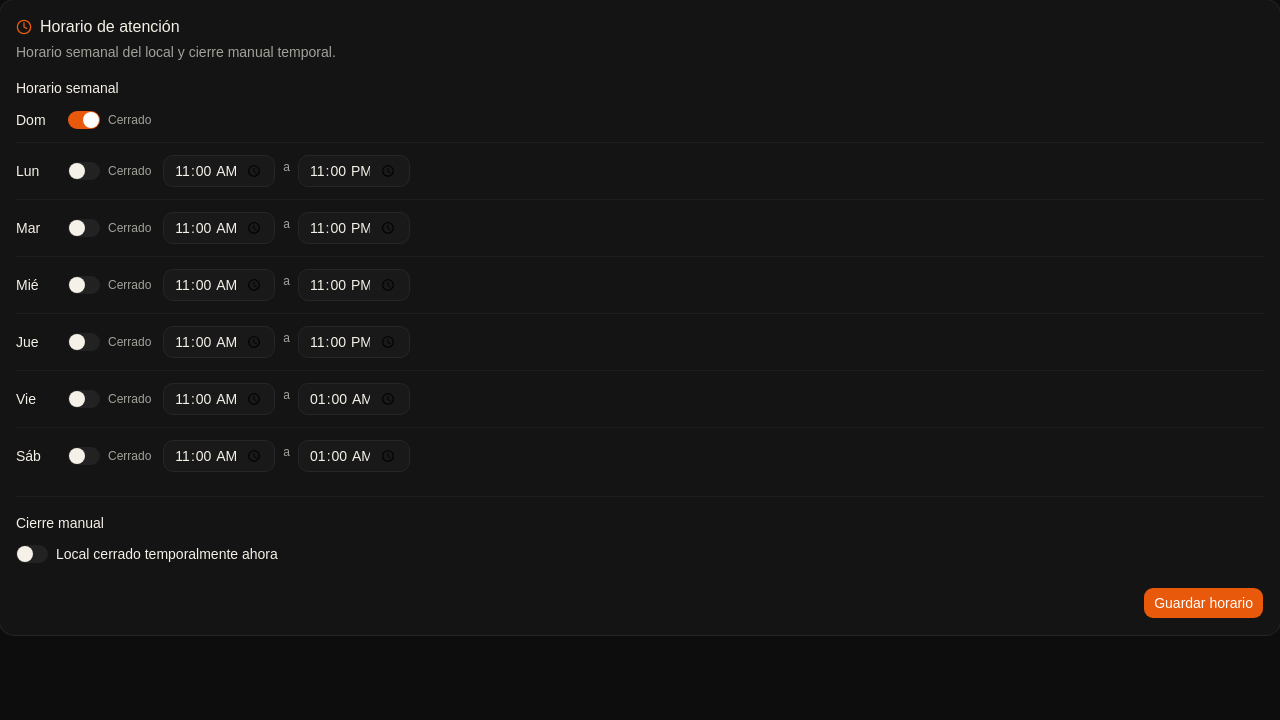
it: BusinessHoursSettingsCard › cerrar después de vaciar hora repara la hora; reabrir conserva horas válidas
Clear the time field named "Lun hora de apertura" at (219, 171), box [163,155,275,187]
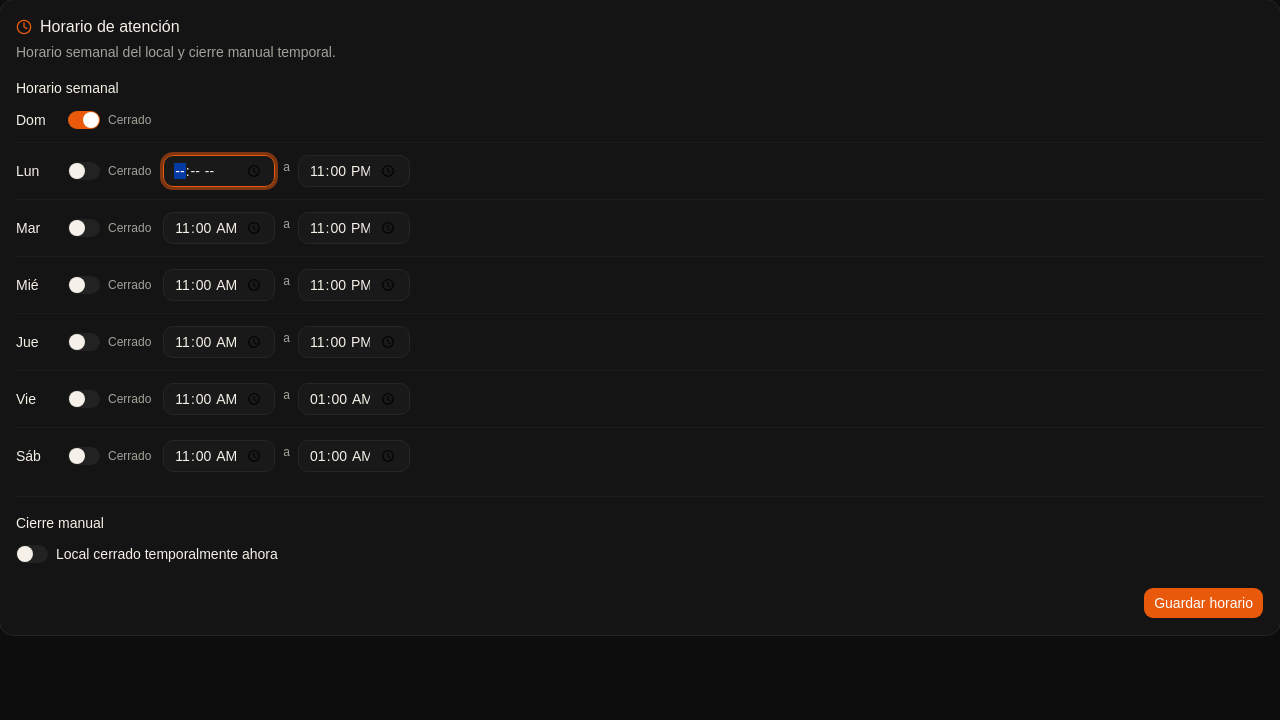
Click the switch named "Lun cerrado" at (84, 171), box [68,162,100,180]
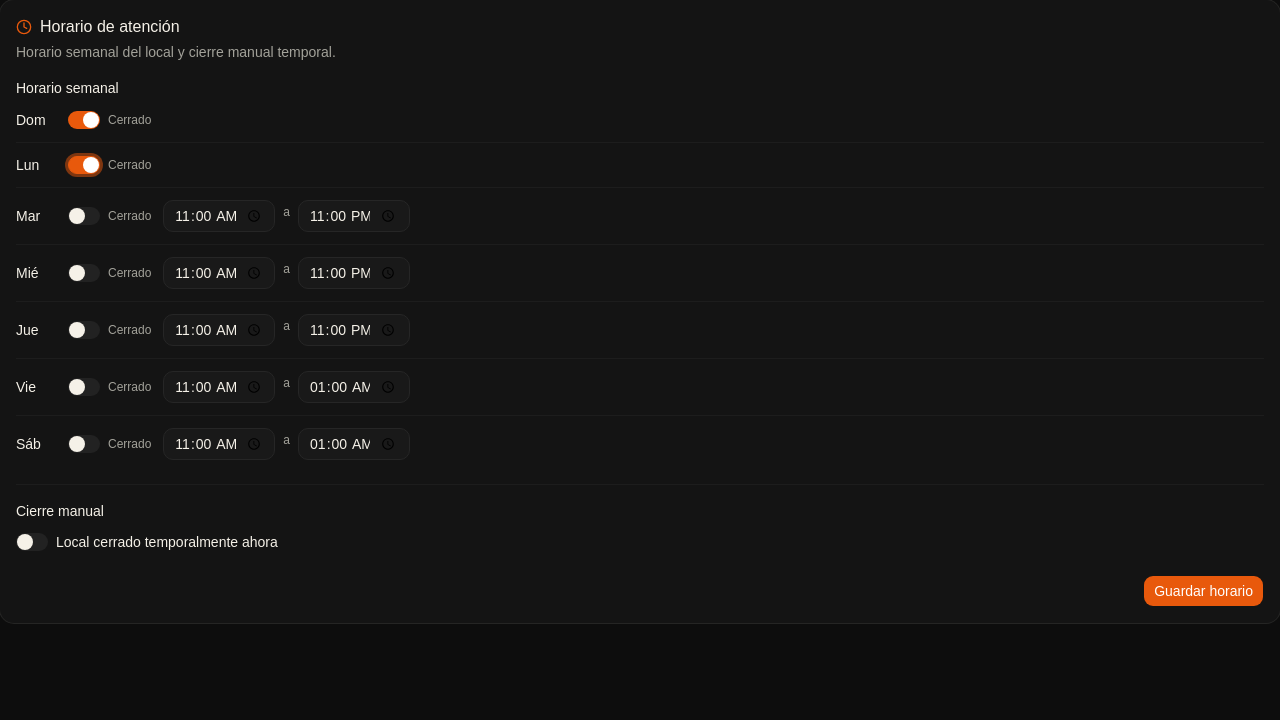
Click the button "Guardar horario" at (1204, 591), box [1143,575,1264,607]
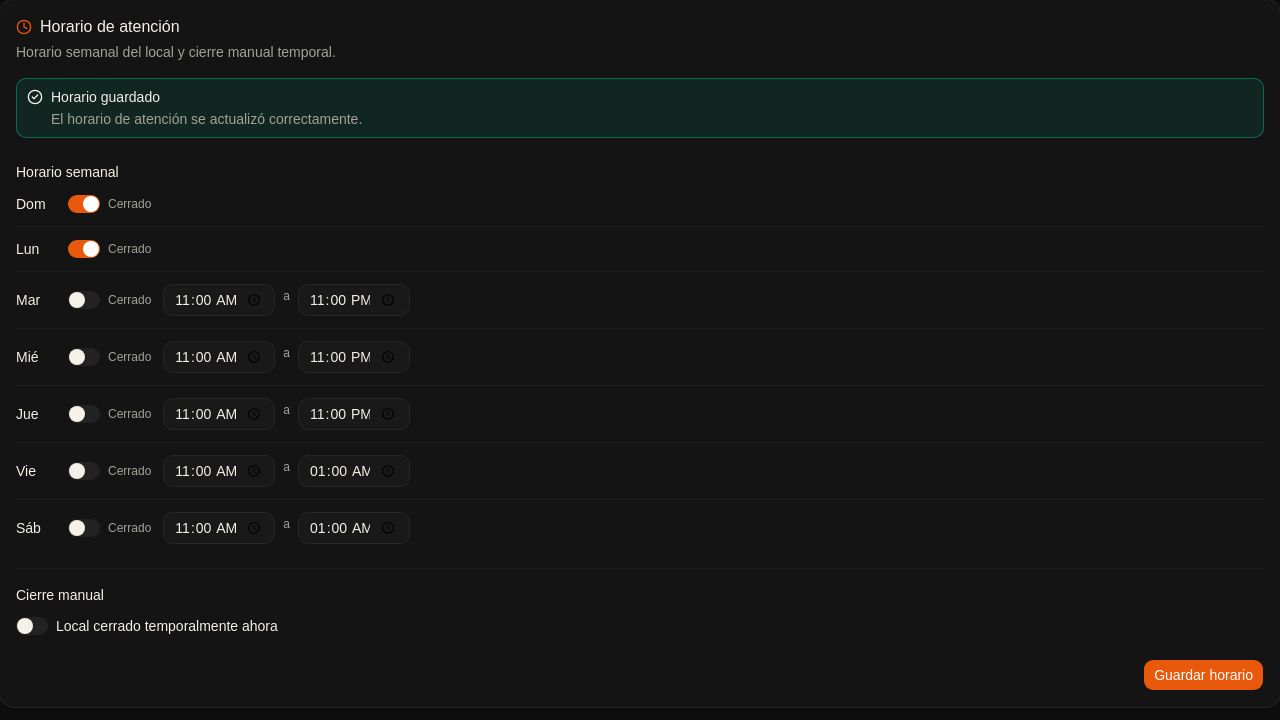
Click the switch named "Lun cerrado" at (84, 249), box [68,240,100,258]
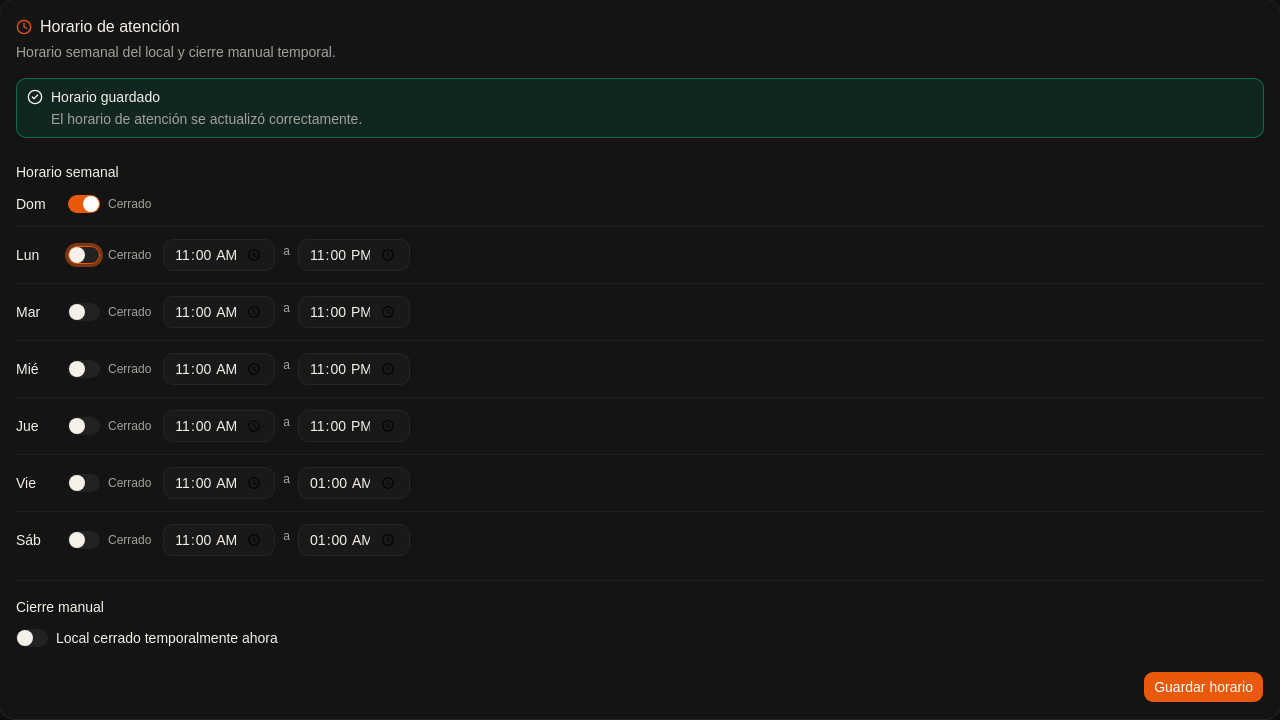
Expected: the time field named "Lun hora de apertura" holds "11:00", [163,239,275,271]
